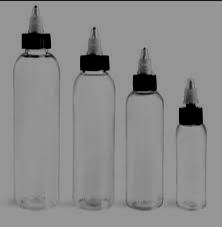Plastic: (12, 6, 62, 214)
